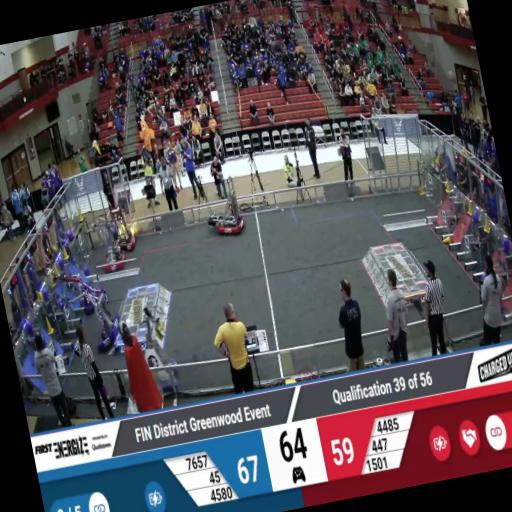robot: (52, 260, 124, 356), (200, 174, 252, 242), (88, 216, 130, 276), (106, 208, 137, 255)
